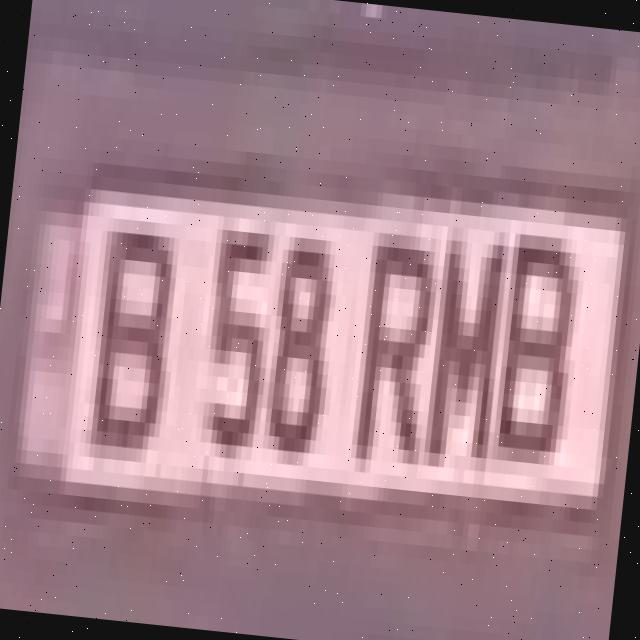Autre: (13, 146, 630, 574)
